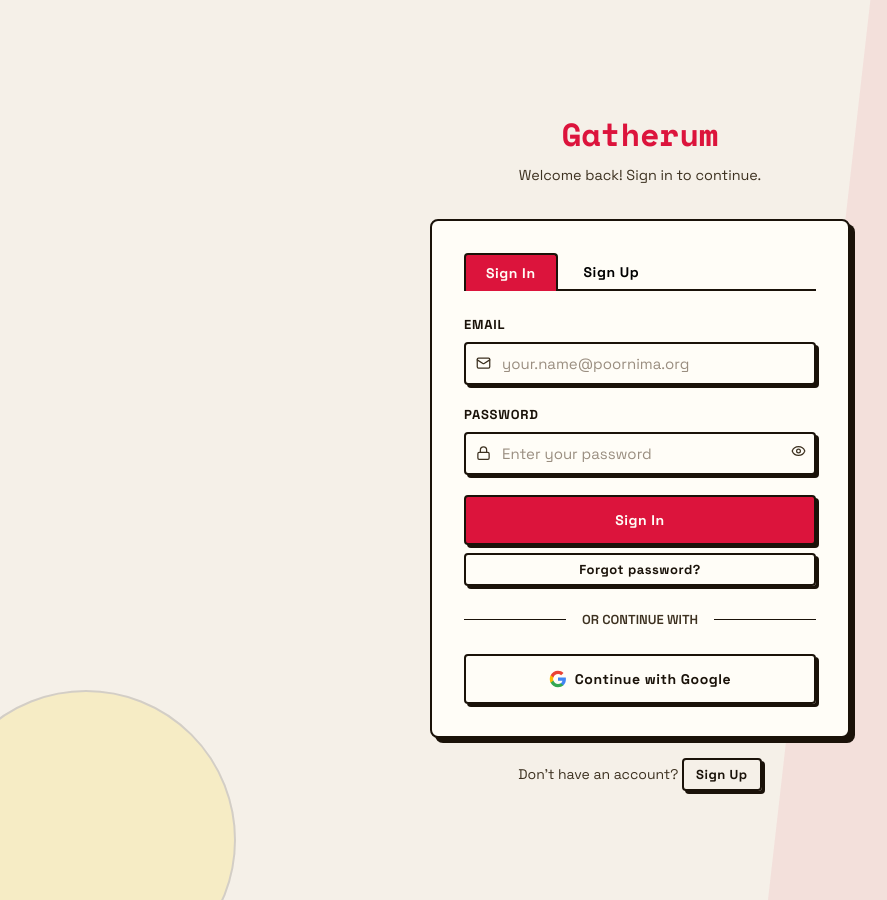
Test case: AuthPage › domain helper text only appears on Sign Up
Check: the text "Only @poornima.org emails can sign up" is not shown
Click the tab "Sign Up": (611, 271) left=562, top=253, right=661, bottom=289
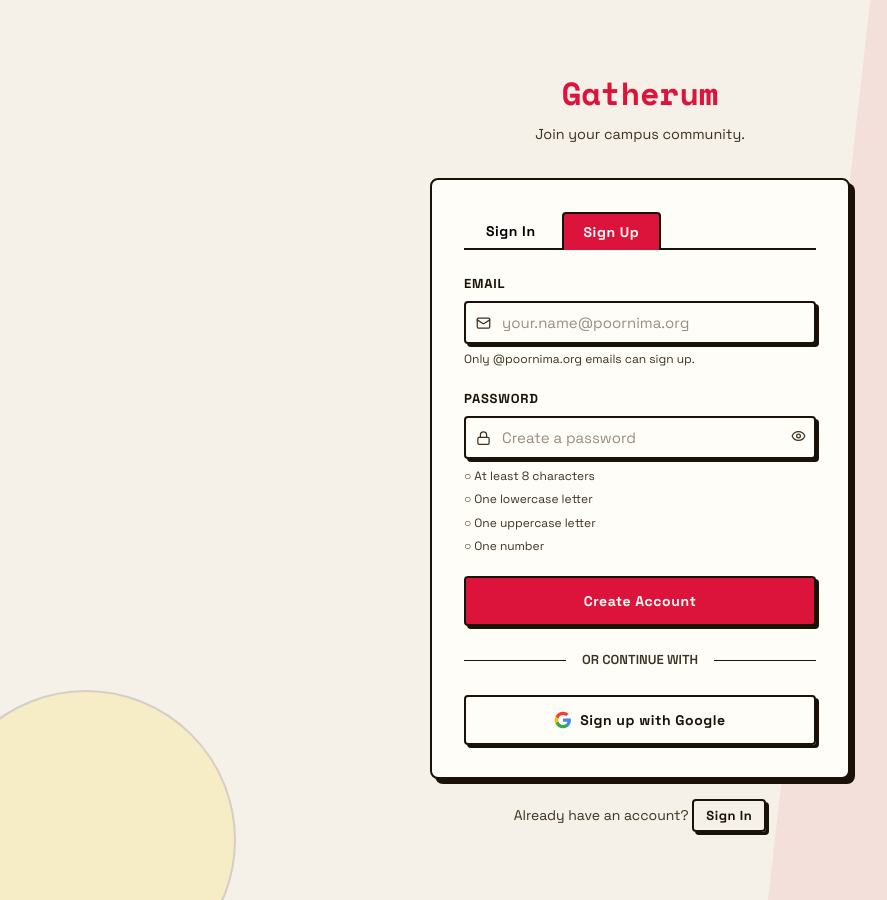
Check: the text "Only @poornima.org emails can sign up." is shown, box left=464, top=351, right=695, bottom=367
